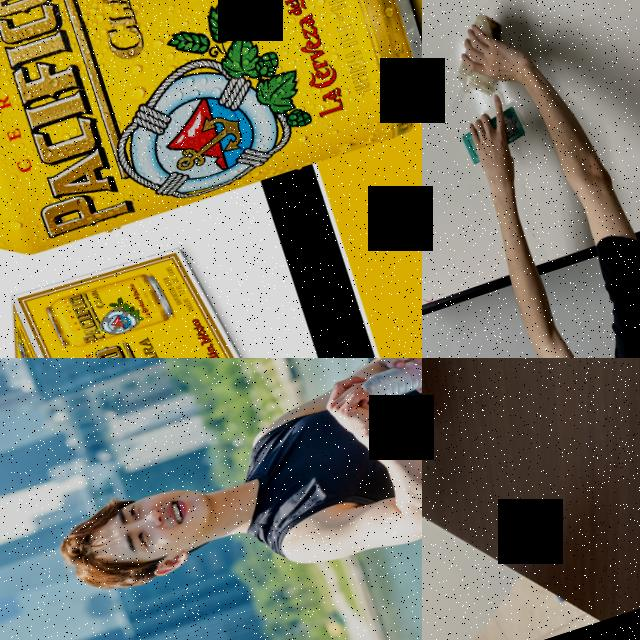bottle: (350, 358, 422, 410)
can: (0, 0, 422, 279)
cup: (438, 3, 524, 106)
